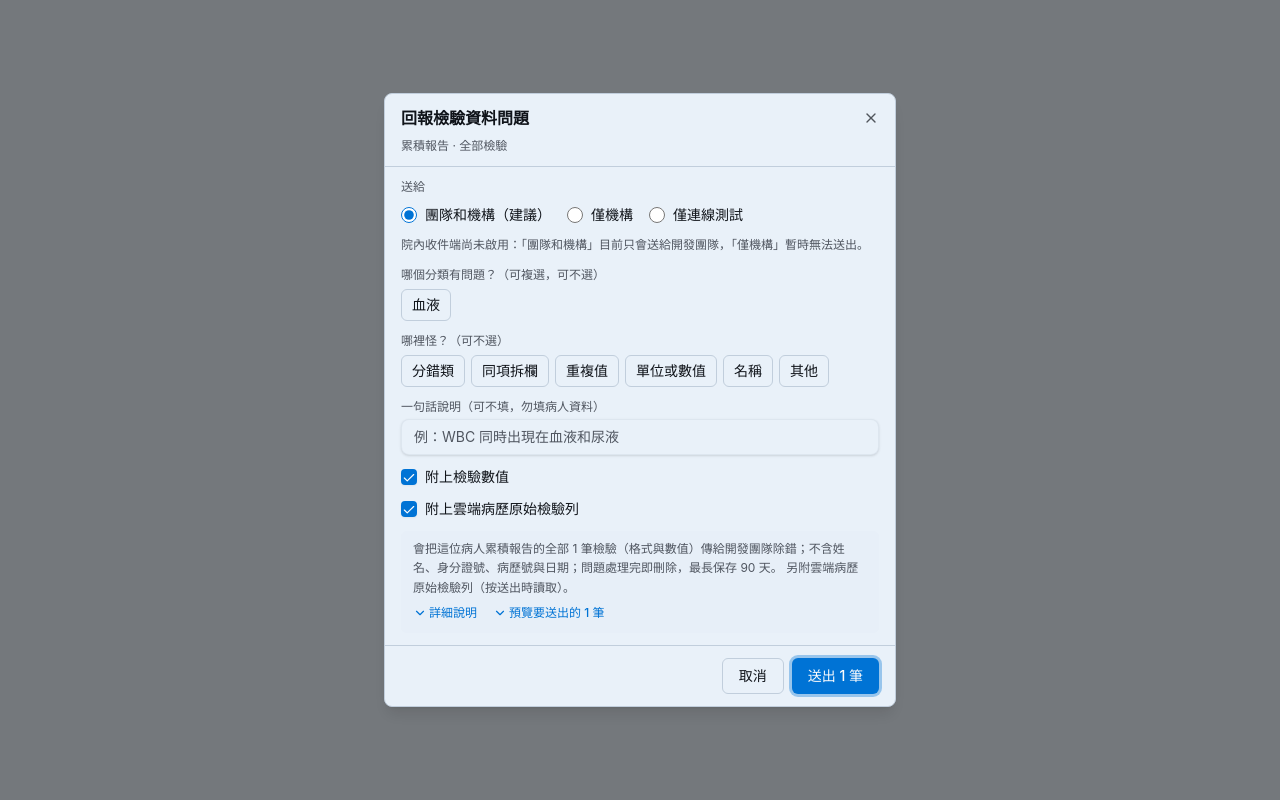
Test: LabDataReportDialog — MediCloud raw rows › previews the raw rows on request, before anything is sent
The image size is (1280, 800).
Click the button "預覽要送出的 1 筆".
click(549, 613)  # box [493,601,604,625]
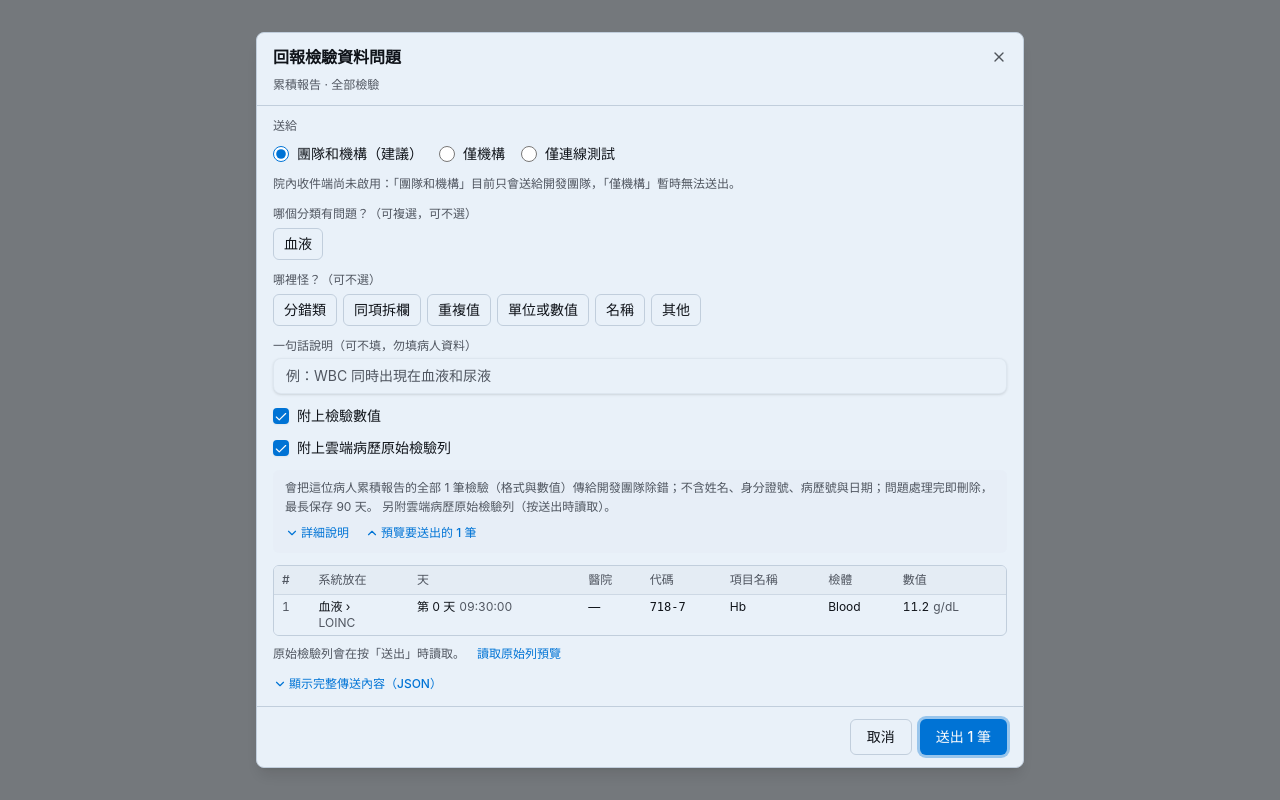
Check: the text "原始檢驗列會在按「送出」時讀取。" is shown, box [273,646,465,660]
Click the button "讀取原始列預覽".
click(519, 654)  # box [477,642,561,666]
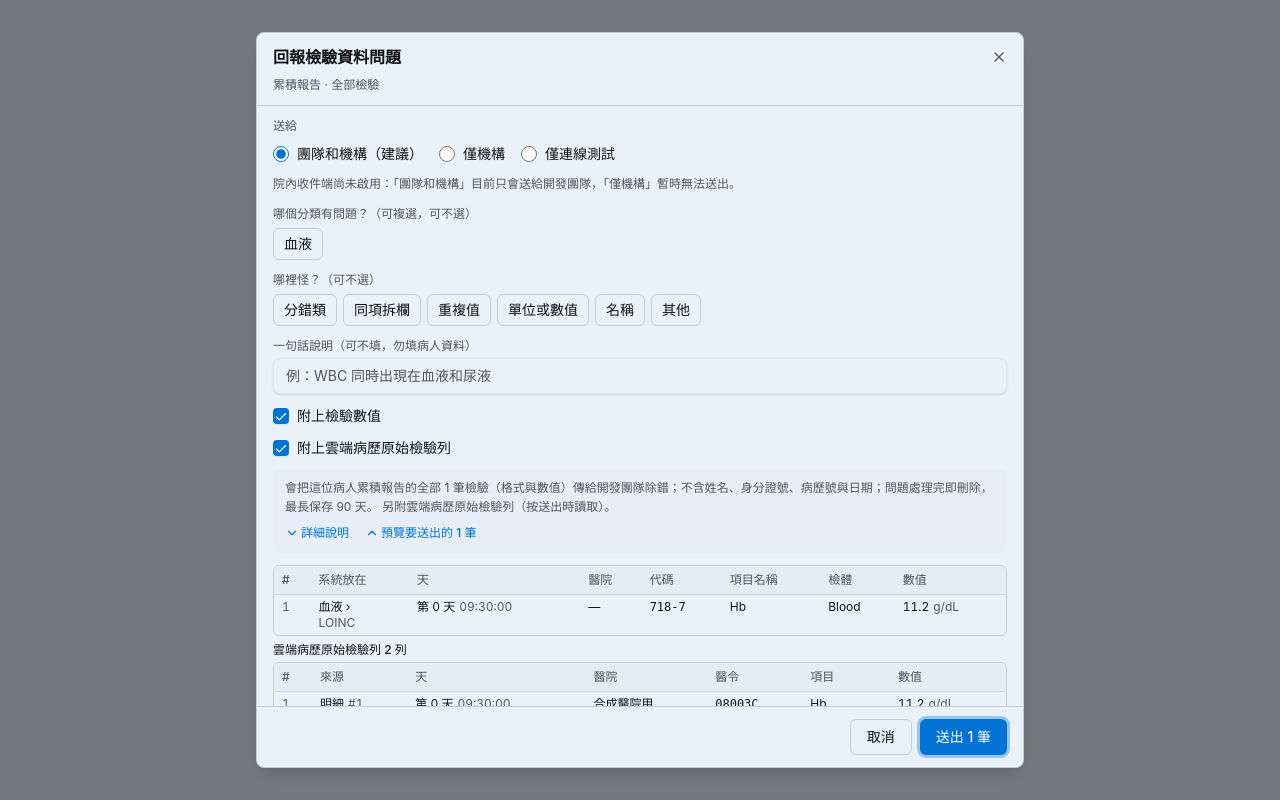
Check: the text "雲端病歷原始檢驗列 2 列" is shown, box [273,642,407,656]
